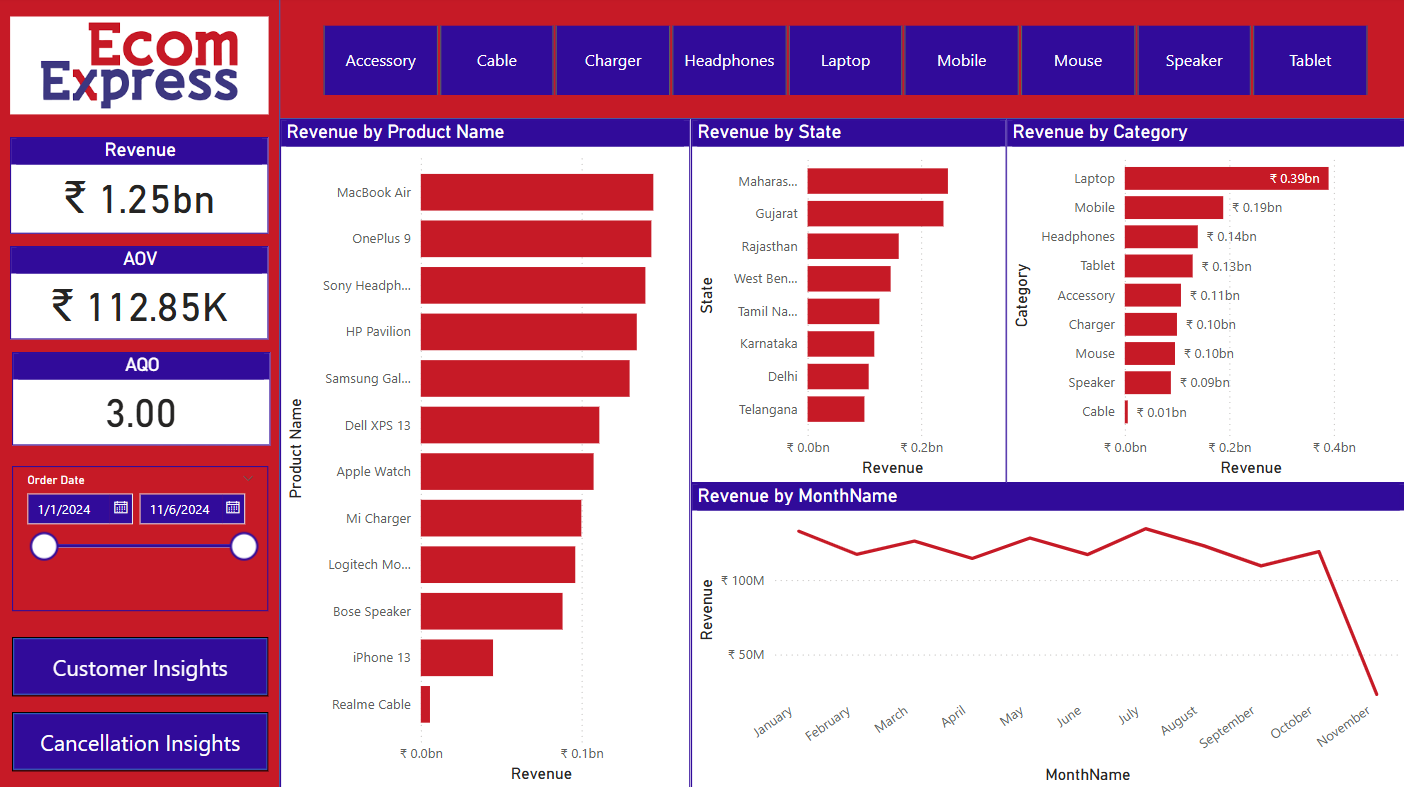

The page's visual inventory and layout, read from the dashboard file:
{"tool":"powerbi","page":{"name":"Revenue Insights","canvas":[1280,720],"ordinal":0},"visuals":[{"type":"shape","box":[0,0,1280.3,111.1],"z":0},{"type":"shape","box":[0,0,256.6,720.4],"z":1000},{"type":"image","box":[0,12.3,256.6,98.8],"z":2000},{"type":"slicer","fields":{"Values":["Products.Category"]},"box":[270.3,19.2,999,76.8],"z":3000},{"type":"barChart","fields":{"Category":["Products.Product Name"],"Y":["table.Revenue"]},"box":[256.6,111.1,373.2,609.3],"z":4000},{"type":"barChart","fields":{"Y":["table.Revenue"],"Category":["Products.Category"]},"box":[916.6,111.1,363.6,330.7],"z":5000},{"type":"barChart","fields":{"Y":["table.Revenue"],"Category":["Customers.State"]},"box":[629.8,111.1,286.8,330.7],"z":6000},{"type":"lineChart","fields":{"Y":["table.Revenue"],"Category":["Orders.MonthName"]},"box":[629.8,441.9,650.4,278.6],"z":7000},{"type":"shape","box":[12.3,650.4,233.3,53.5],"z":8000},{"type":"slicer","fields":{"Values":["Orders.Date and time of purchase"]},"box":[12.3,426.8,233.3,131.7],"z":9000},{"type":"card","title":"Revenue","fields":{"Values":["table.Revenue"]},"box":[11,127.6,234.6,87.8],"z":10000},{"type":"shape","box":[12.3,581.8,233.3,53.5],"z":11000},{"type":"card","title":"AOV","fields":{"Values":["table.AOV"]},"box":[11,226.4,234.6,85.1],"z":12000},{"type":"card","title":"AQO","fields":{"Values":["table.items_per_order"]},"box":[12.3,322.5,234.6,85.1],"z":13000}]}

Visuals, with their boxes in screenshot pixels (x1, y1, x2, y2), scaled from the page's 1280x720 canvas onto the 1404x787 screenshot:
shape: 0, 0, 1403, 121
shape: 0, 0, 281, 786
image: 0, 13, 281, 121
slicer - Products.Category: 296, 21, 1392, 105
barChart - Products.Product Name x table.Revenue: 281, 121, 691, 786
barChart - table.Revenue x Products.Category: 1005, 121, 1403, 483
barChart - table.Revenue x Customers.State: 691, 121, 1005, 483
lineChart - table.Revenue x Orders.MonthName: 691, 483, 1403, 786
shape: 13, 711, 269, 769
slicer - Orders.Date and time of purchase: 13, 467, 269, 610
"Revenue" card: 12, 139, 269, 235
shape: 13, 636, 269, 694
"AOV" card: 12, 247, 269, 340
"AQO" card: 13, 353, 271, 446
